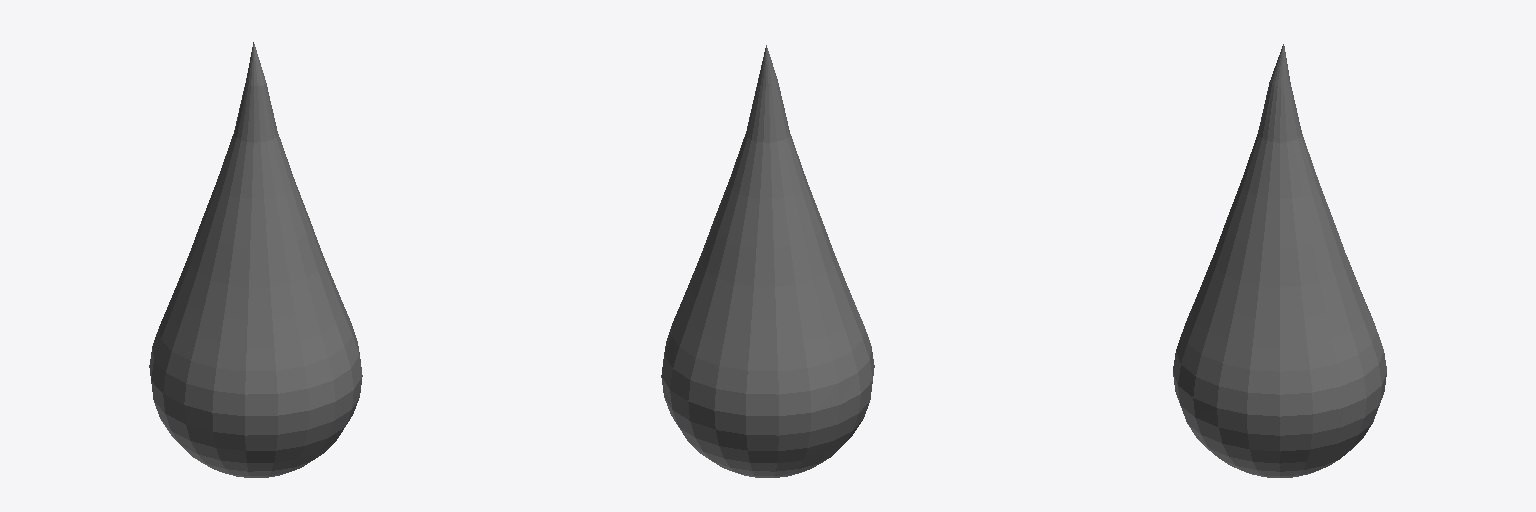
The model's file is raindrop.obj.
The picture shows the model from 3 angles: view 1: azimuth 30°, elevation 25°; view 2: azimuth 150°, elevation 25°; view 3: azimuth 270°, elevation 25°; orthographic projection.
Visible parts, largest first — view 1: raindrop; view 2: raindrop; view 3: raindrop.
Part boxes in pixels (bbox=[...]): raindrop: bbox=[149, 42, 362, 477]; raindrop: bbox=[661, 45, 874, 477]; raindrop: bbox=[1173, 44, 1386, 477].
Bounding box in the file's own units: 0.3996 × 0.8772 × 0.3995.